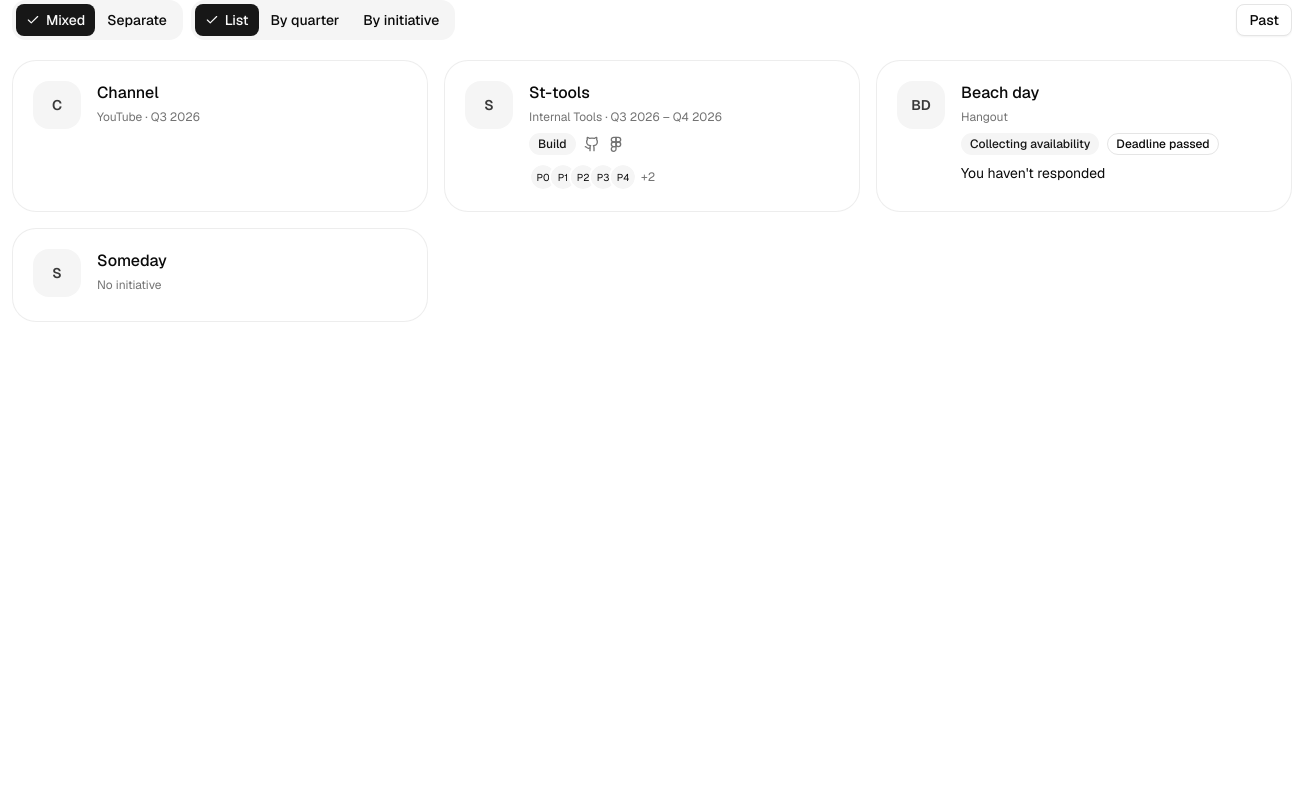
Test: ProjectOverview › separates hangouts from projects and remembers the layout
Click the button "Separate": [137, 20] box [95, 4, 179, 36]
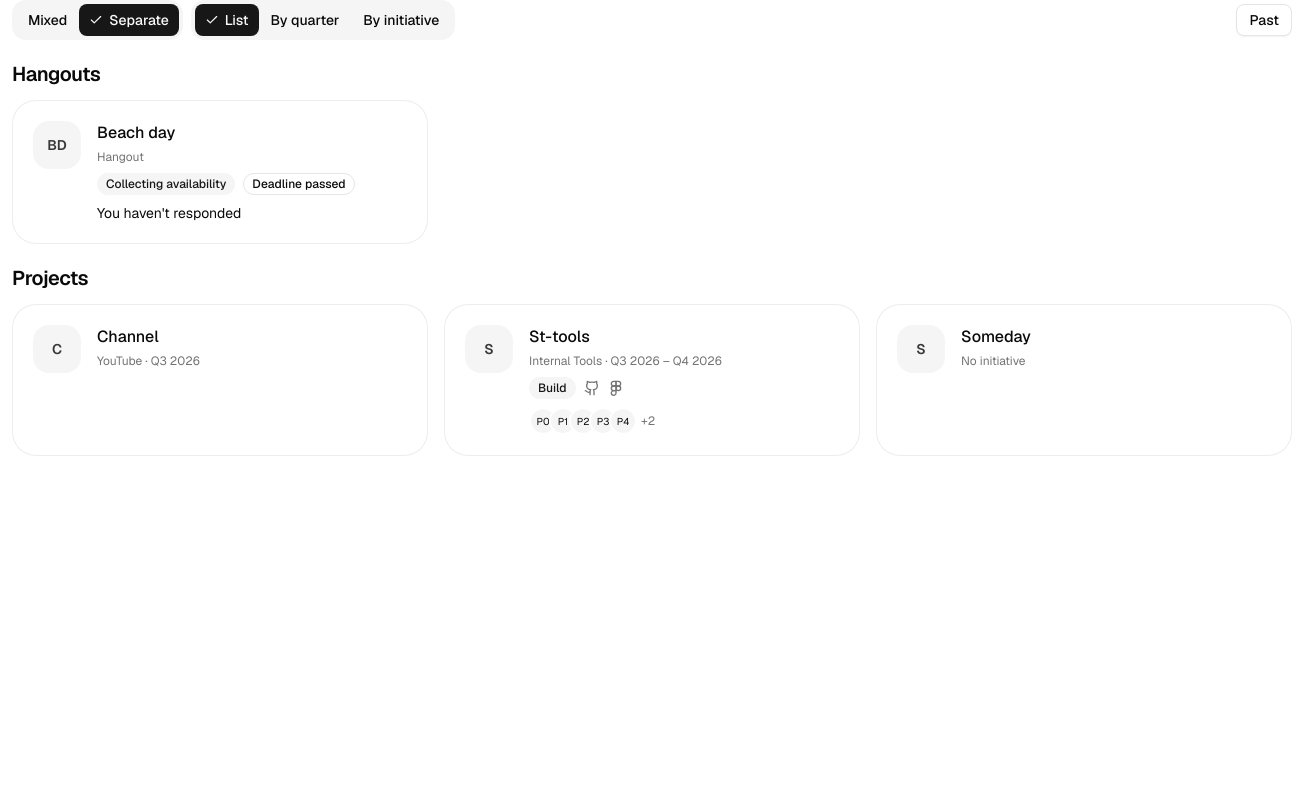
Click the button "By quarter": [305, 20] box [259, 4, 351, 36]
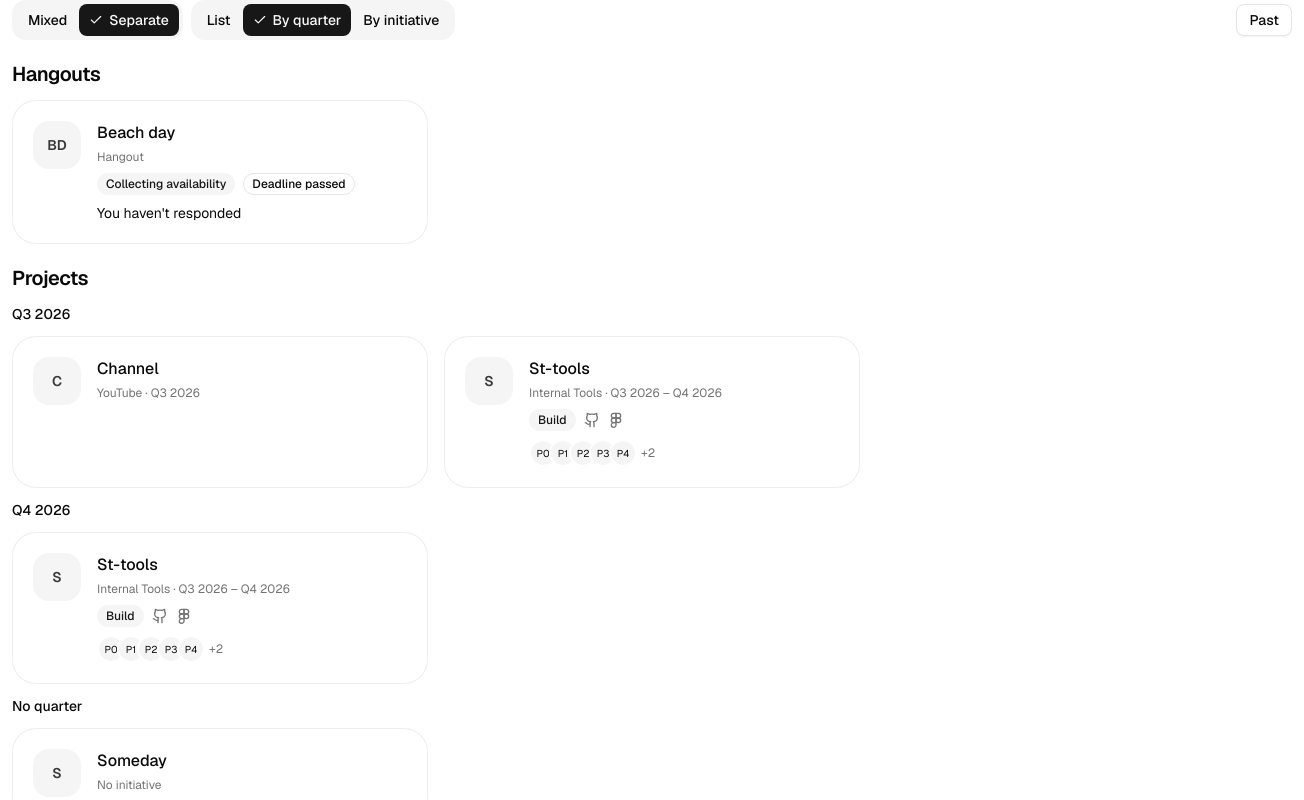
Click the button "Past": [1264, 20] box [1236, 4, 1292, 36]
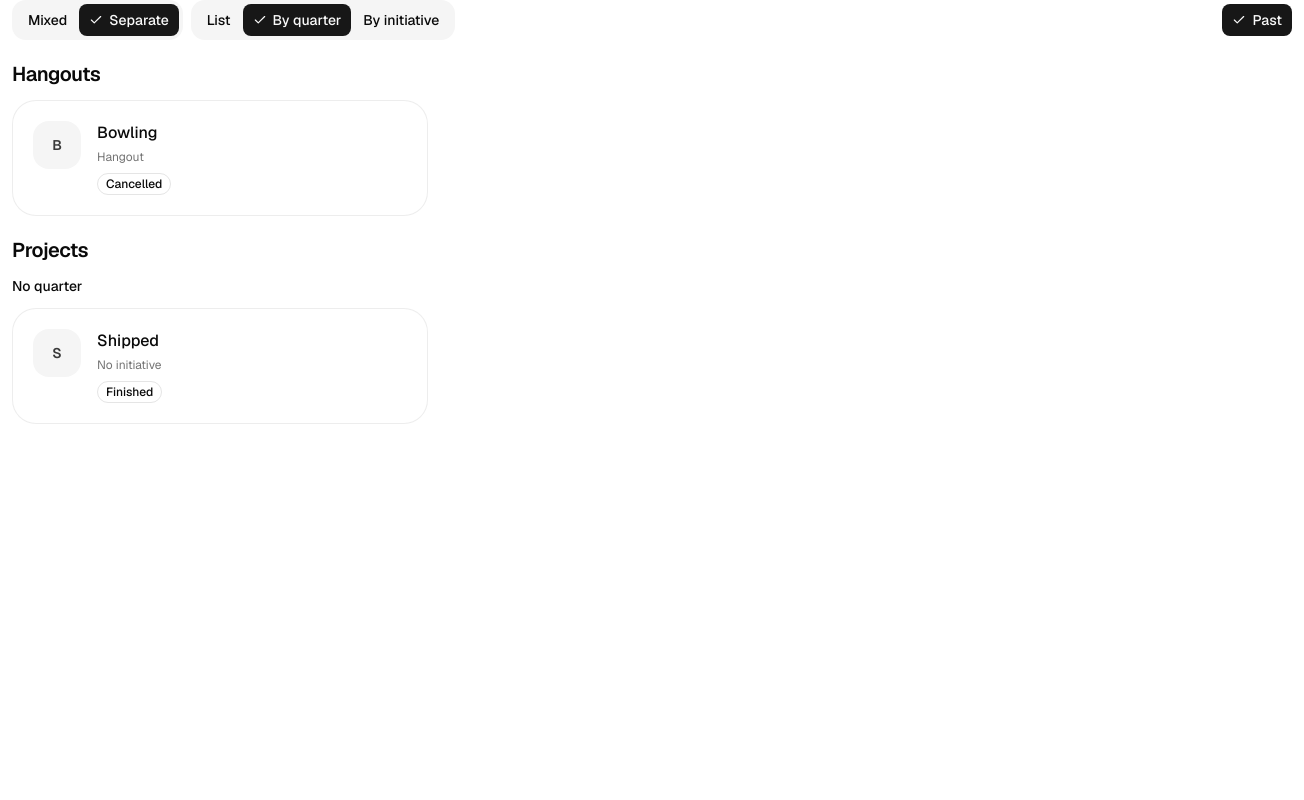
Expected: the text "Bowling" is shown, [97, 122, 158, 143]
